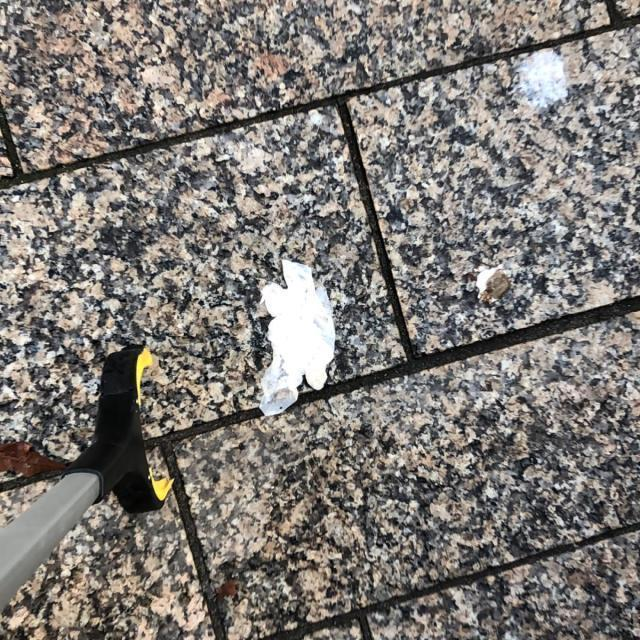Paper: (252, 256, 338, 416)
